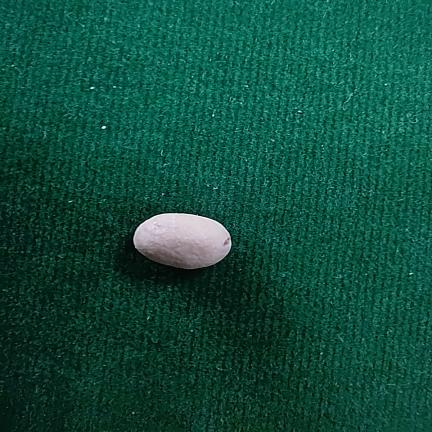immature: (133, 213, 231, 269)
